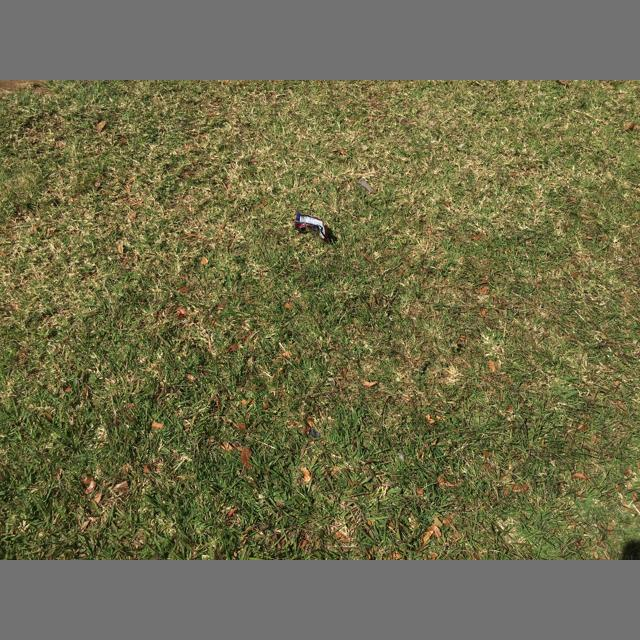litter: (295, 212, 329, 243)
